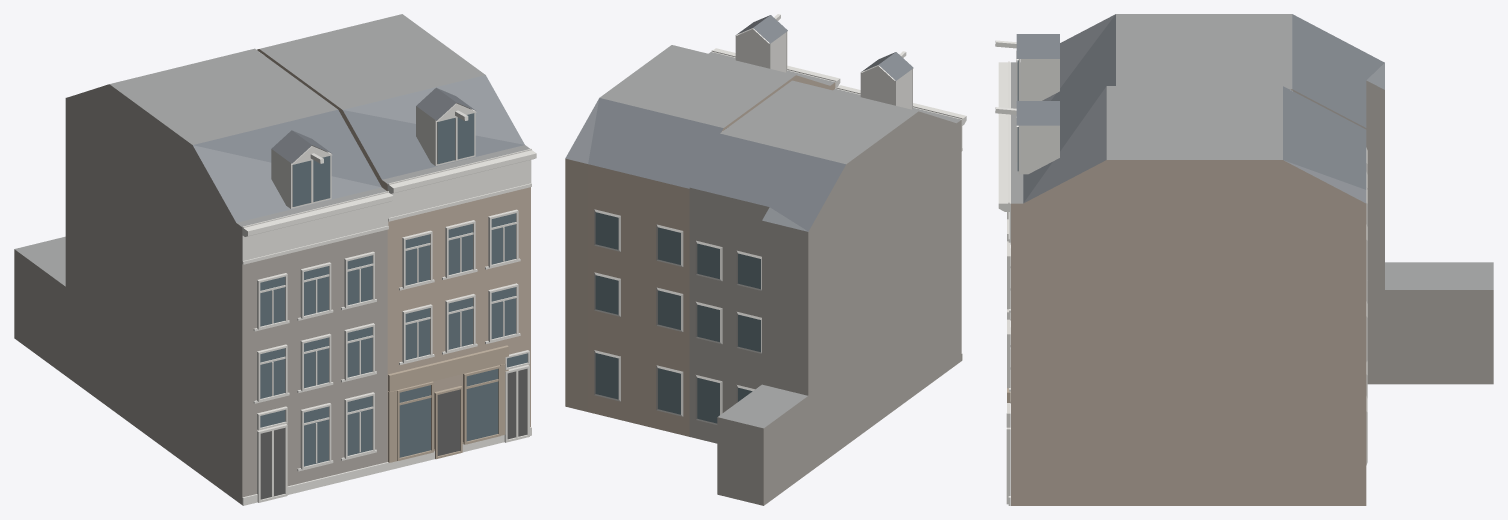
File: chunk-face-campen-27-59-r1.glb
The picture shows the model from 3 angles, left to right: view 1: azimuth 30°, elevation 25°; view 2: azimuth 150°, elevation 25°; view 3: azimuth 270°, elevation 25°; orthographic projection. The views are drawn at different scales.
Parts seen in each view (by area): view 1: face-campen-27-59-r1; view 2: face-campen-27-59-r1; view 3: face-campen-27-59-r1.
Boxes of the visible parts, box(x1,y1,x2,y2) form: face-campen-27-59-r1: box(14, 14, 536, 505); face-campen-27-59-r1: box(565, 14, 966, 505); face-campen-27-59-r1: box(995, 14, 1493, 505).
Bounding box in the file's own units: 11.5 × 13.23 × 16.23.
